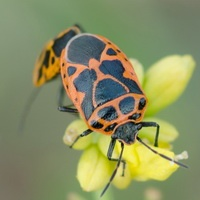insect: (33, 26, 194, 191), (60, 34, 194, 191), (112, 142, 178, 188)
